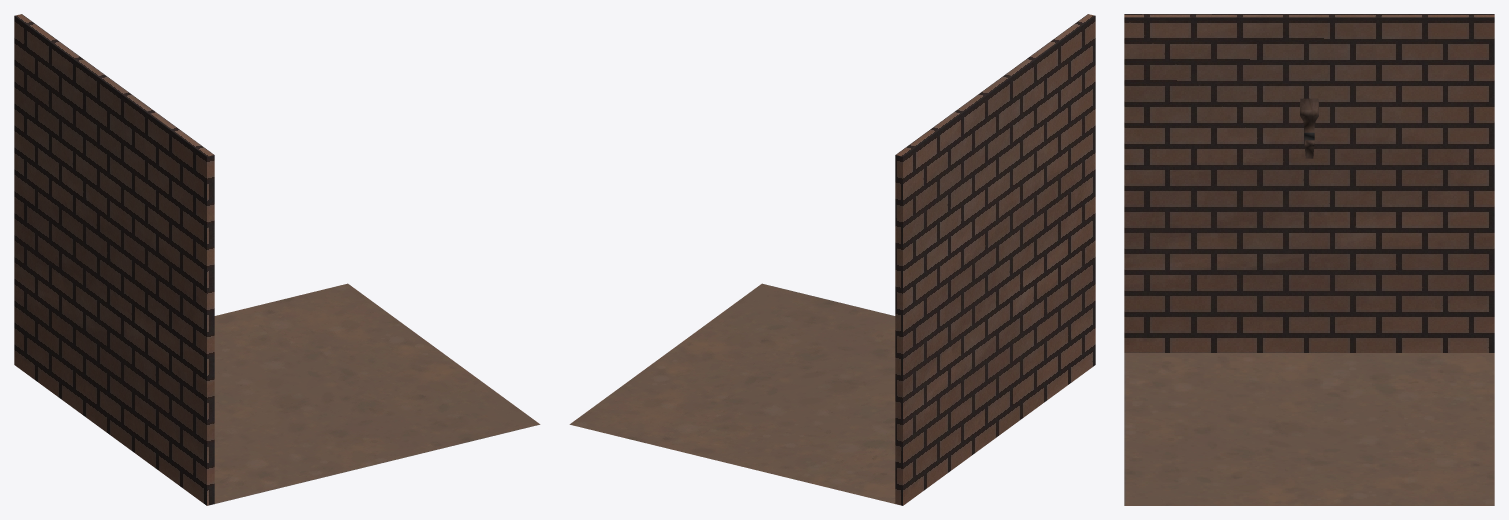
Rendered from wallRightTorchlight.glb.
The picture shows the model from 3 angles, left to right: view 1: azimuth 30°, elevation 25°; view 2: azimuth 150°, elevation 25°; view 3: azimuth 270°, elevation 25°; orthographic projection. The views are drawn at different scales.
Parts seen in each view (by area): view 1: wallRight-col; view 2: wallRight-col; view 3: wallRight-col, torch-col.
Boxes of the visible parts, x1,y1,x2,y2 form: wallRight-col: (14,14,540,505); wallRight-col: (569,14,1095,505); wallRight-col: (1124,14,1494,505); torch-col: (1300,98,1318,158).
Bounding box in the file's own units: 4 × 4 × 4.
Materials: 2 (2 with a texture image).
